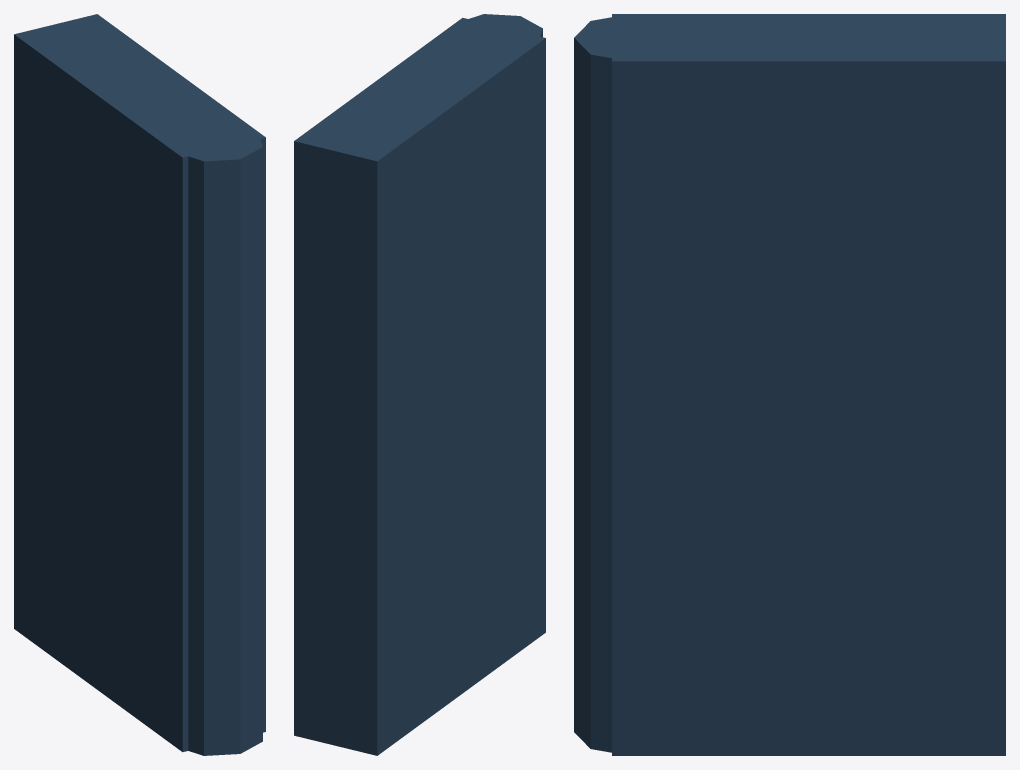
Rendered from rudder_pivot.glb.
3 views of the same model, side by side, from view 1: azimuth 30°, elevation 25°; view 2: azimuth 150°, elevation 25°; view 3: azimuth 270°, elevation 25° (orthographic). The views are drawn at different scales.
Parts seen in each view (by area): view 1: rudder, rudder_hinge; view 2: rudder, rudder_hinge; view 3: rudder, rudder_hinge.
Part boxes in pixels (x1=…): rudder: x1=14, y1=14, x2=265, y2=752; rudder_hinge: x1=170, y1=123, x2=262, y2=755; rudder: x1=294, y1=17, x2=545, y2=755; rudder_hinge: x1=450, y1=14, x2=542, y2=52; rudder: x1=612, y1=14, x2=1005, y2=755; rudder_hinge: x1=574, y1=14, x2=685, y2=752.
Bounding box in the file's own units: 0.11 × 0.75 × 0.4225.
